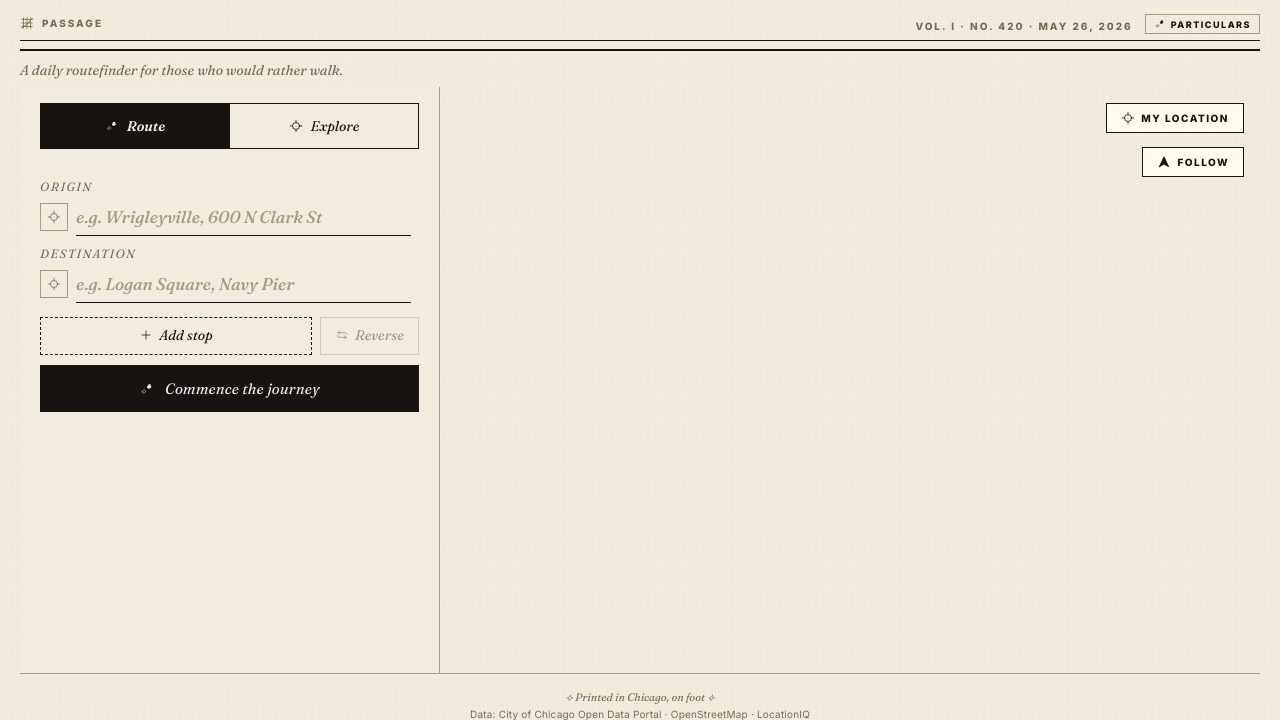
Test case: handleSubmit error handling › shows a generic error message on network failure
Type "Wrigleyville" into the dropdown named "Origin".
click(244, 217); type("Wrigleyville")  # box [76, 198, 411, 236]
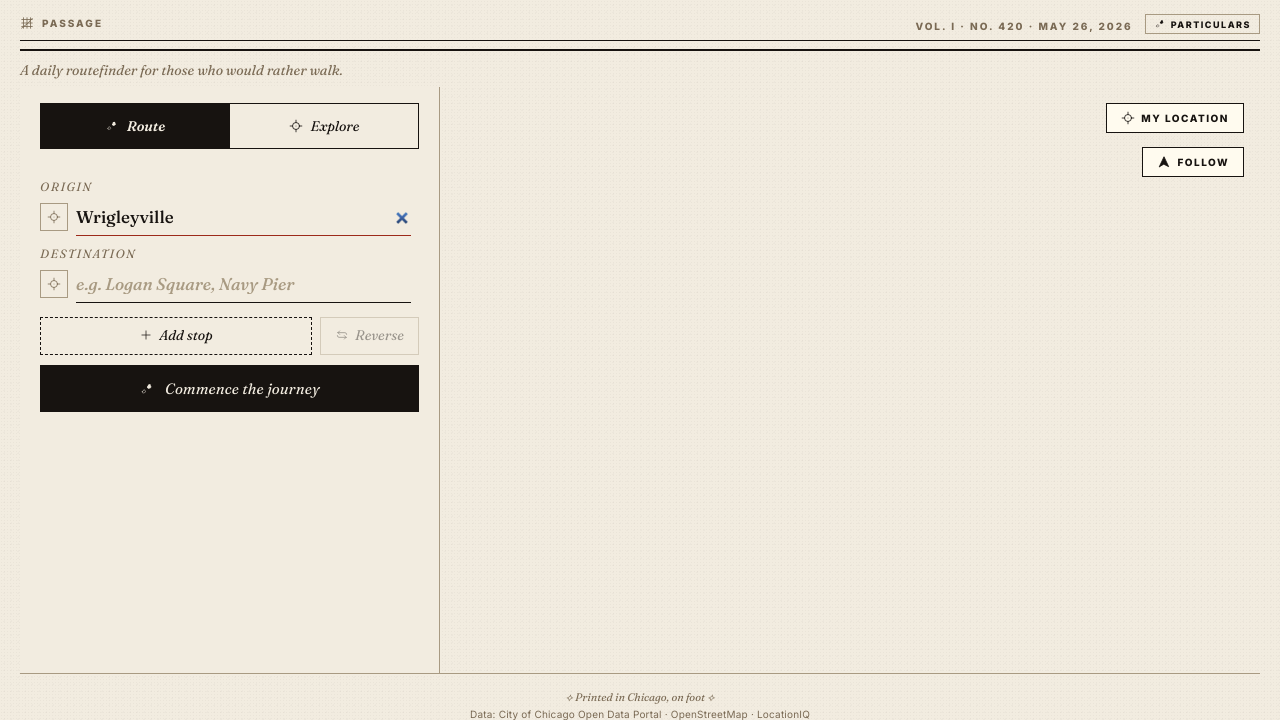
Type "Logan Square" into the dropdown named "Destination".
click(244, 284); type("Logan Square")  # box [76, 265, 411, 303]
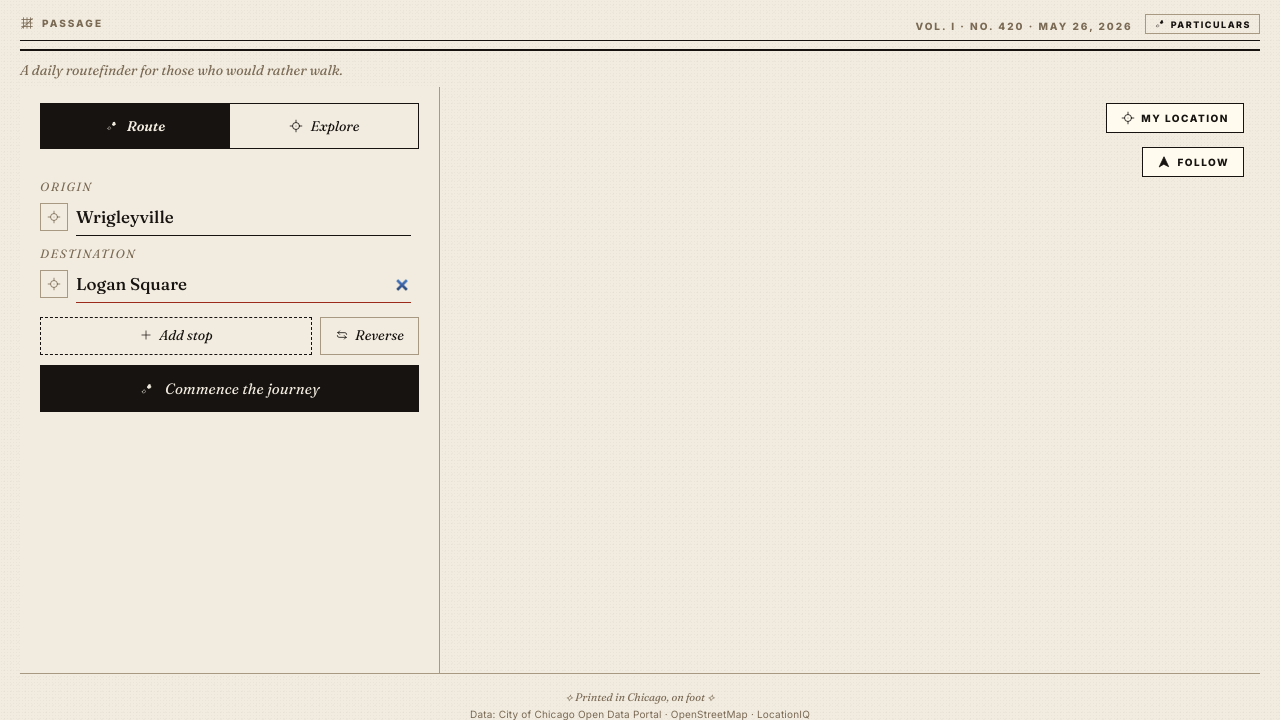
Click the button "Commence the journey".
click(230, 388)  # box [40, 365, 419, 412]
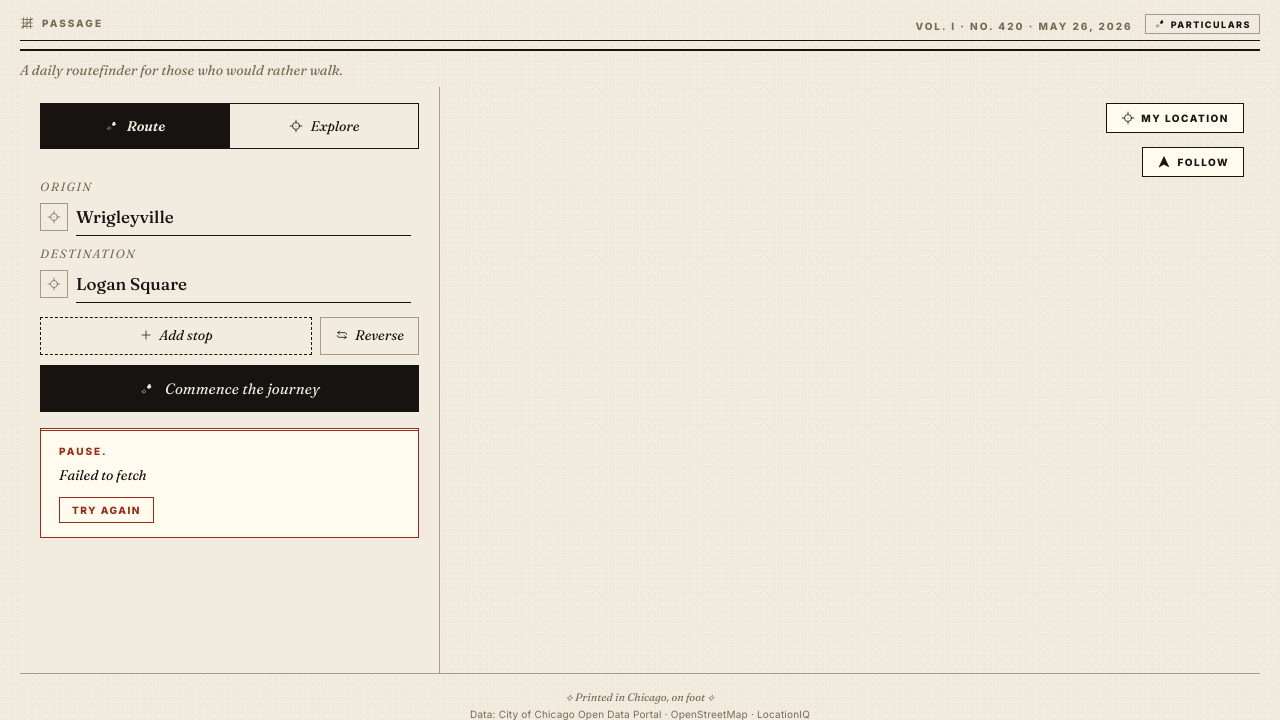
Check: the message shows "Failed to fetch", box [59, 466, 147, 484]
